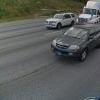Car: (42, 13, 100, 63)
